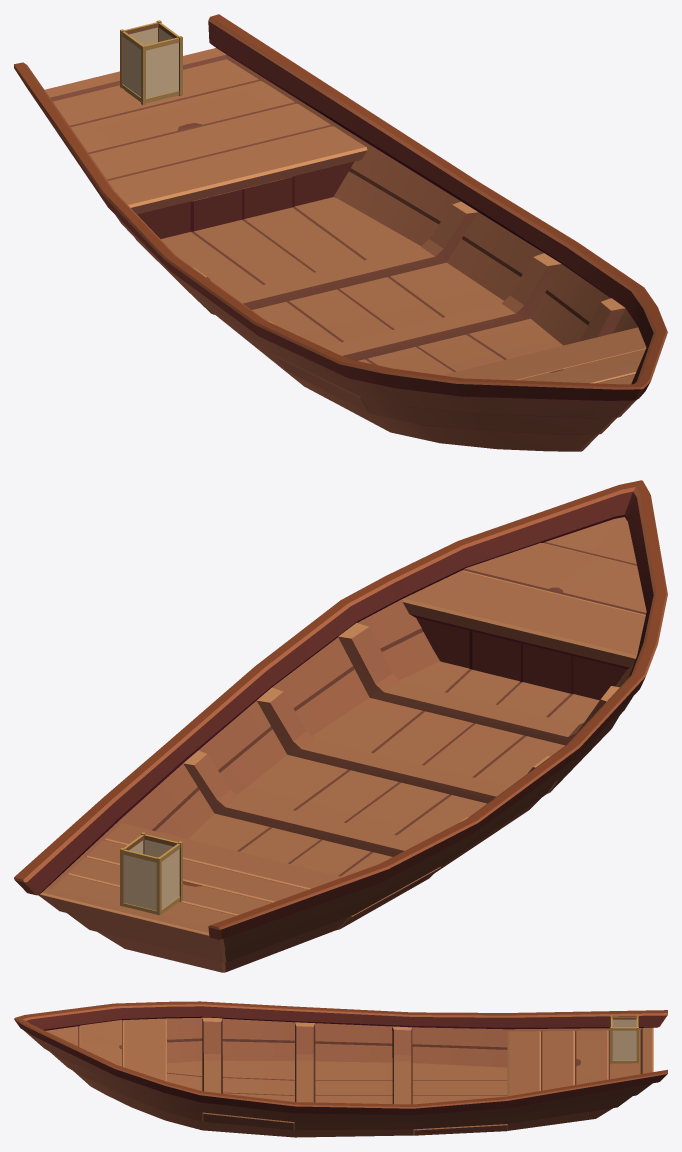
File: wooden_boat.fbx
The picture shows the model from 3 angles, top to bottom: view 1: azimuth 30°, elevation 25°; view 2: azimuth 150°, elevation 25°; view 3: azimuth 270°, elevation 25°; orthographic projection. The views are drawn at different scales.
Visible parts, largest first — view 1: wooden_boat; view 2: wooden_boat; view 3: wooden_boat.
Part boxes in pixels (bbox=[...]): wooden_boat: bbox=[14, 14, 667, 451]; wooden_boat: bbox=[14, 480, 667, 972]; wooden_boat: bbox=[14, 1001, 667, 1137].
Size of the model in its own units: 26.51 by 10.68 by 74.13.
